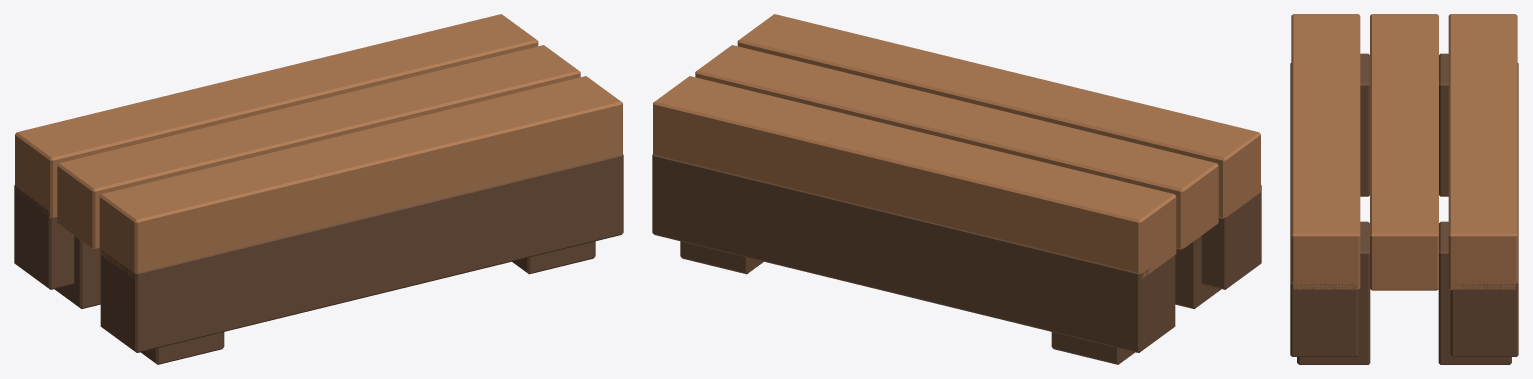
File: wood_platform_edge_01.glb
3 views of the same model, side by side, from view 1: azimuth 30°, elevation 25°; view 2: azimuth 150°, elevation 25°; view 3: azimuth 270°, elevation 25° (orthographic). The views are drawn at different scales.
Visible parts, largest first — view 1: wood_platform_edge_01; view 2: wood_platform_edge_01; view 3: wood_platform_edge_01.
Part boxes in pixels (x1,y1,x2,y2): wood_platform_edge_01: (14, 14, 623, 364); wood_platform_edge_01: (652, 14, 1261, 364); wood_platform_edge_01: (1290, 14, 1518, 364).
Size of the model in its own units: 1 by 0.3 by 0.436.
